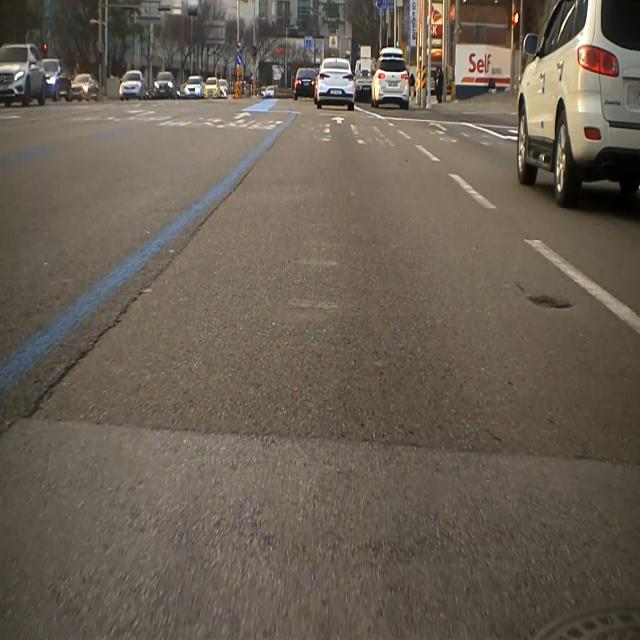Pothole: (523, 285, 579, 321)
